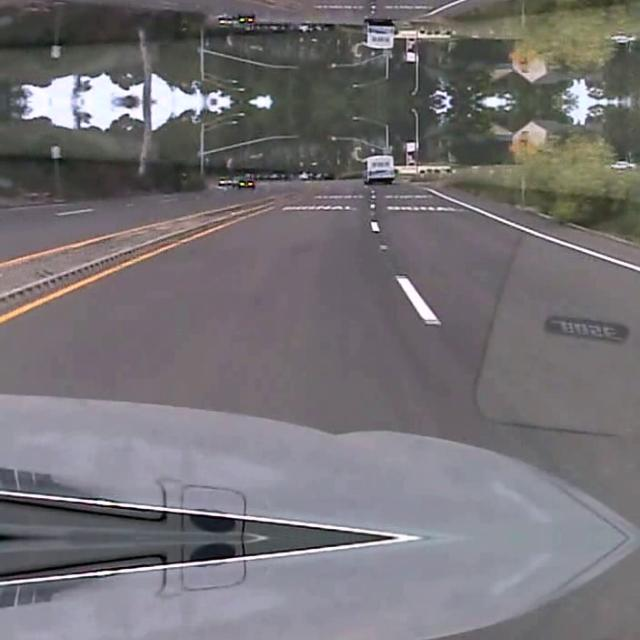signalAhead: (507, 134, 539, 162), (507, 40, 539, 68)
